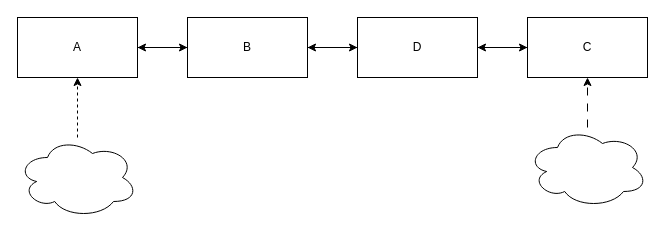
The diagram is 665 pixels wide and 235 high, and some of its shapes have lost their labels. Each missing label, with the centre of its shape:
"head" belongs at point 77,177.
"tail" belongs at point 587,167.
